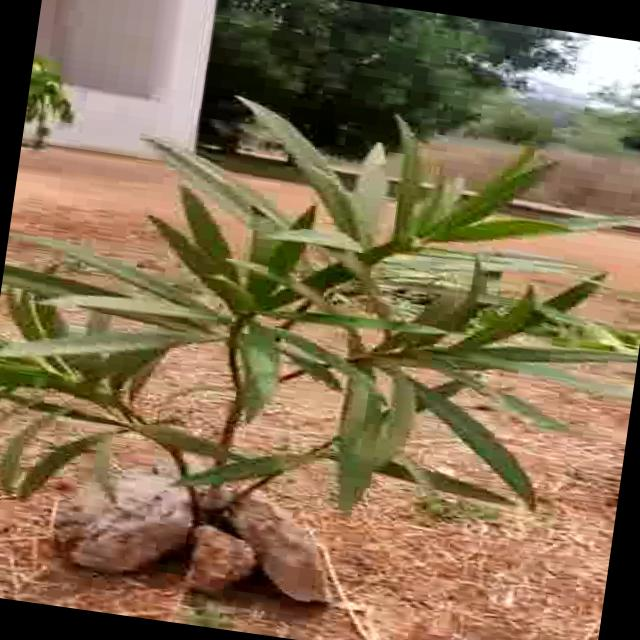OLEANDER: (0, 68, 640, 547)
